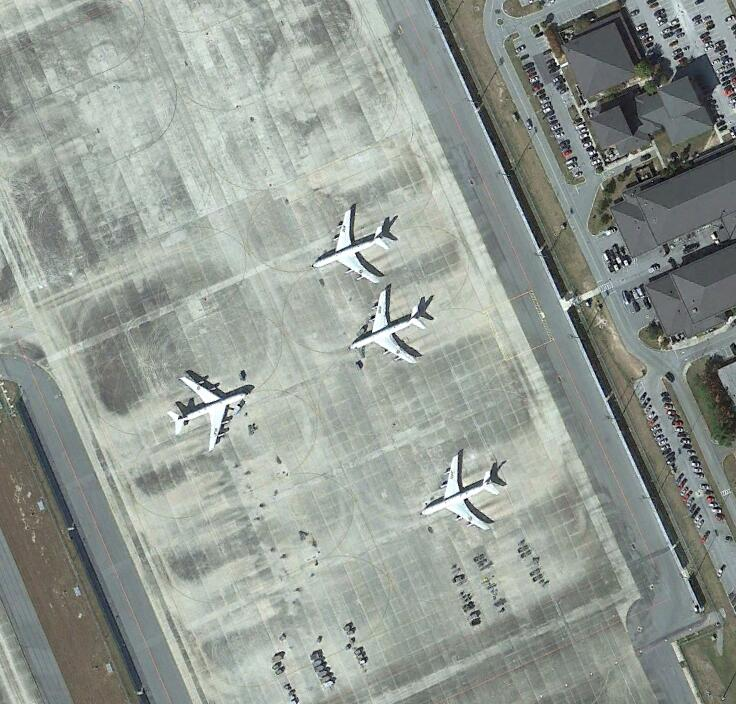A11: (421, 453, 500, 534), (312, 209, 394, 286), (350, 288, 429, 367), (167, 375, 247, 450)
